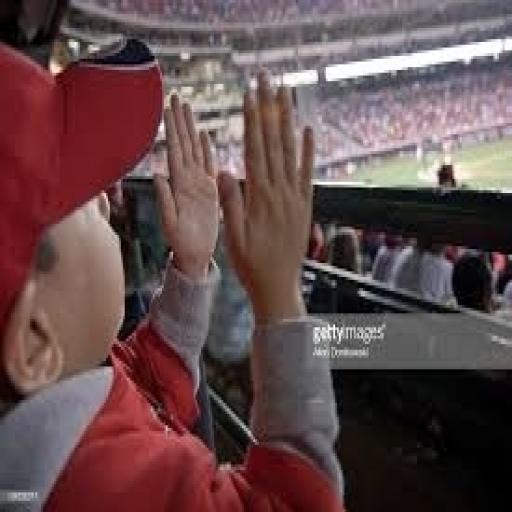clapping: (0, 33, 346, 509)
